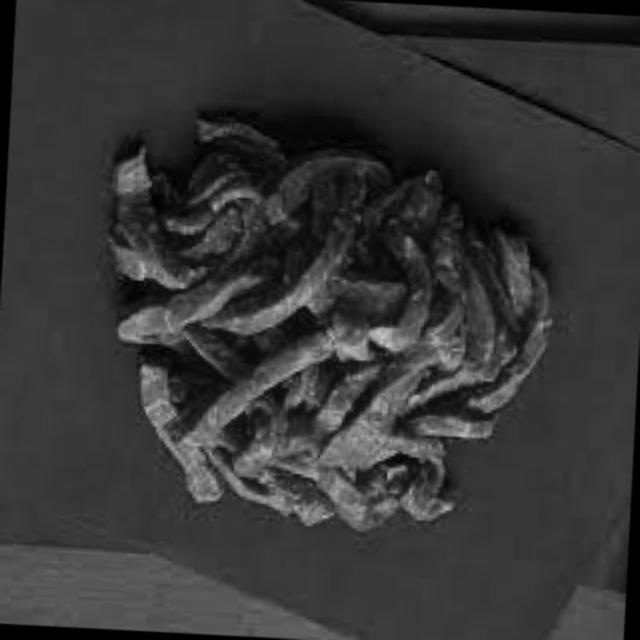thit mieng: (92, 109, 568, 542)
